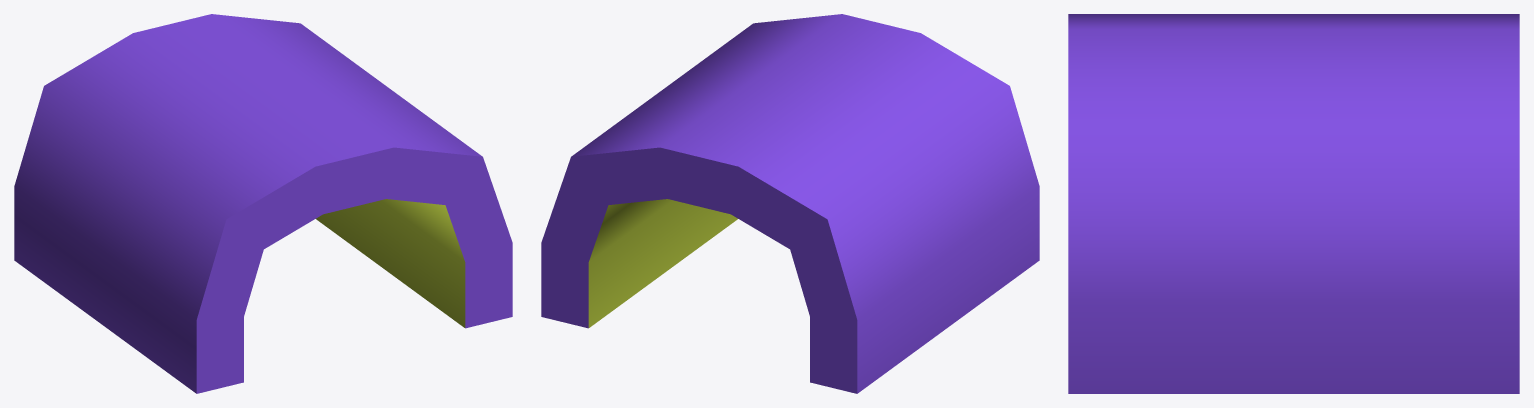
Rendered from tunnel-col.dae.
3 views of the same model, side by side, from view 1: azimuth 30°, elevation 25°; view 2: azimuth 150°, elevation 25°; view 3: azimuth 270°, elevation 25° (orthographic). The views are drawn at different scales.
Visible parts, largest first — view 1: tunnel-col; view 2: tunnel-col; view 3: tunnel-col.
Boxes of the visible parts, x1,y1,x2,y2 form: tunnel-col: (14,14,512,393); tunnel-col: (541,14,1039,393); tunnel-col: (1068,14,1519,393).
Bounding box in the file's own units: 1 × 1 × 0.6.
